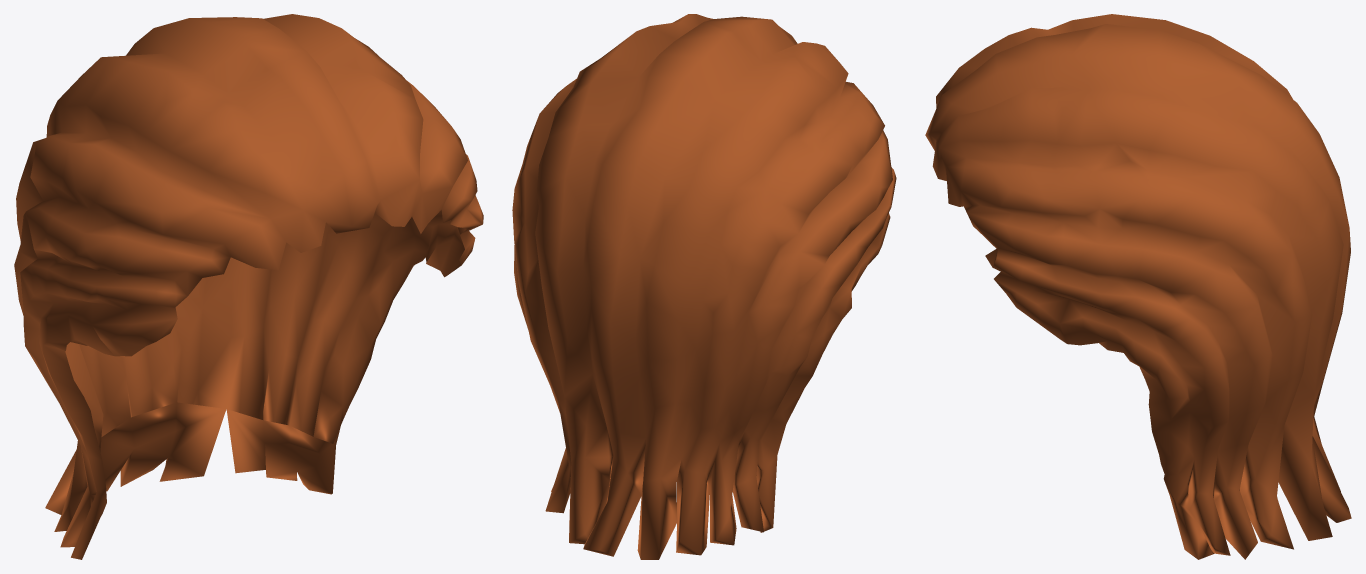
The picture shows the model from 3 angles, left to right: view 1: azimuth 30°, elevation 25°; view 2: azimuth 150°, elevation 25°; view 3: azimuth 270°, elevation 25°; orthographic projection. The views are drawn at different scales.
Parts seen in each view (by area): view 1: Wolf3D_Hair.109; view 2: Wolf3D_Hair.109; view 3: Wolf3D_Hair.109.
Boxes of the visible parts, bbox=[...] form: Wolf3D_Hair.109: bbox=[14, 14, 483, 559]; Wolf3D_Hair.109: bbox=[512, 14, 896, 559]; Wolf3D_Hair.109: bbox=[925, 14, 1351, 559].
Bounding box in the file's own units: 0.1752 × 0.2353 × 0.1868.
Materials: 1 (1 with a texture image).
